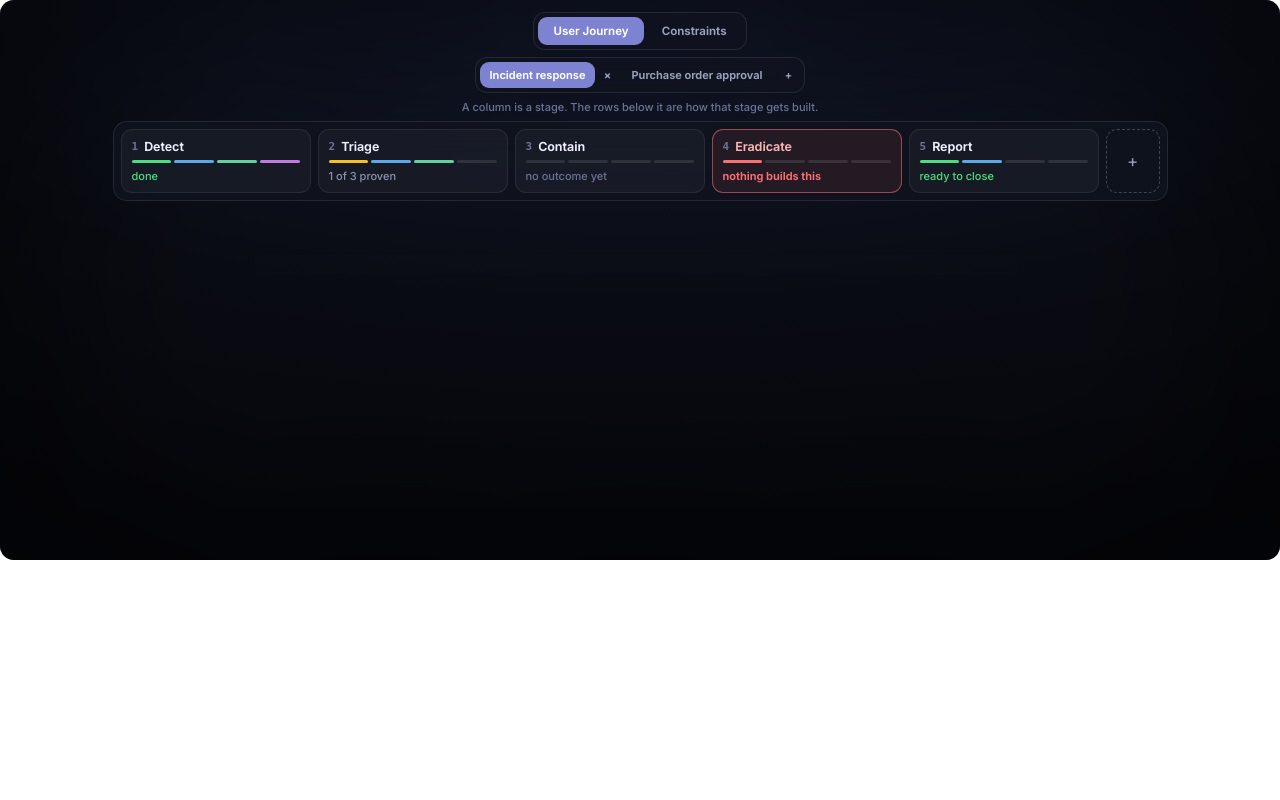
W · a stage and its outcomes › a strip box selects its stage and settles the camera; the pane offers Add an outcome, and filing it writes the outcome on that stage
This screenshot has width=1280, height=800.
Click the button with test id "space-stage" showing "3 Contain no outcome yet" at (610, 161), box [514,129,704,193]
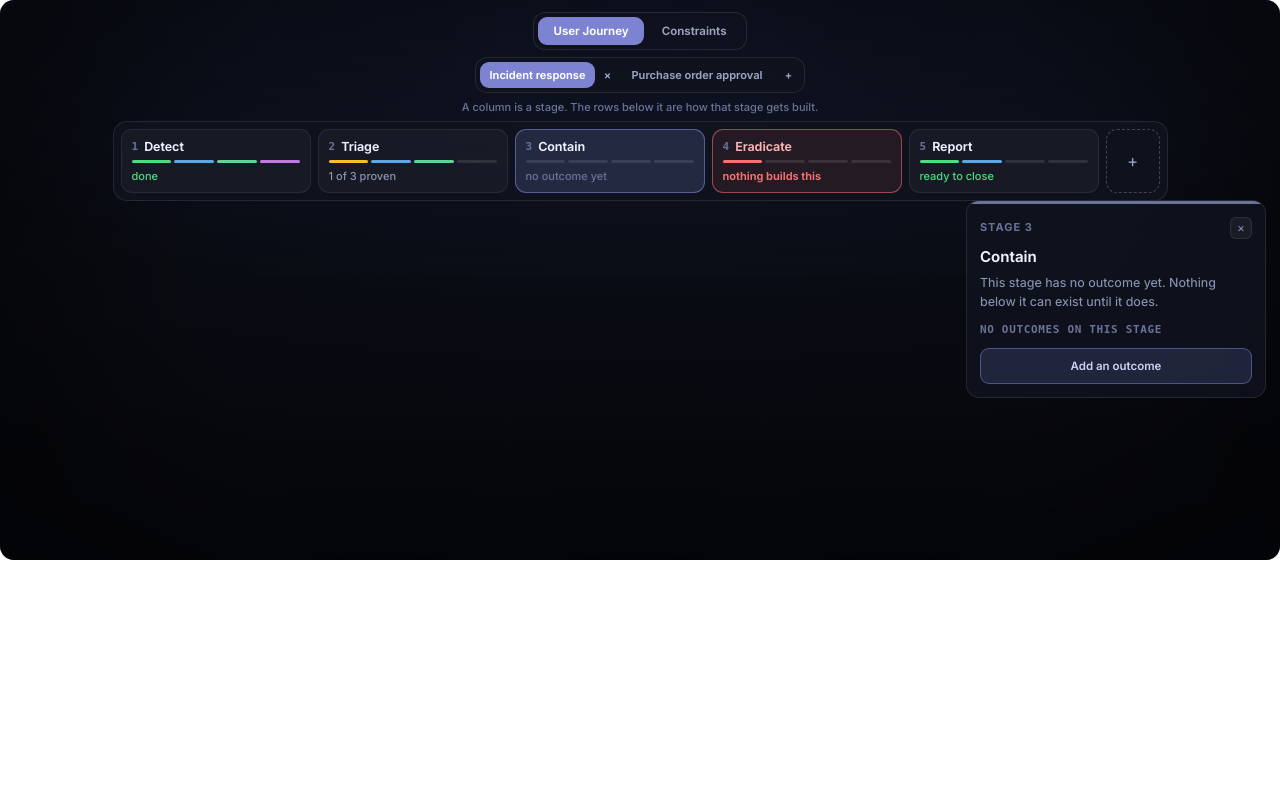
Expected: the element with test id "space-inspector" shows "Stage 3", [980,220,1033,234]
Expected: the element with test id "space-inspector" shows "This stage has no outcome yet. Nothing below it can exist until it does.", [980,274,1216,309]
Click the button with test id "space-new-outcome" at (1116, 366), box [980,348,1252,384]
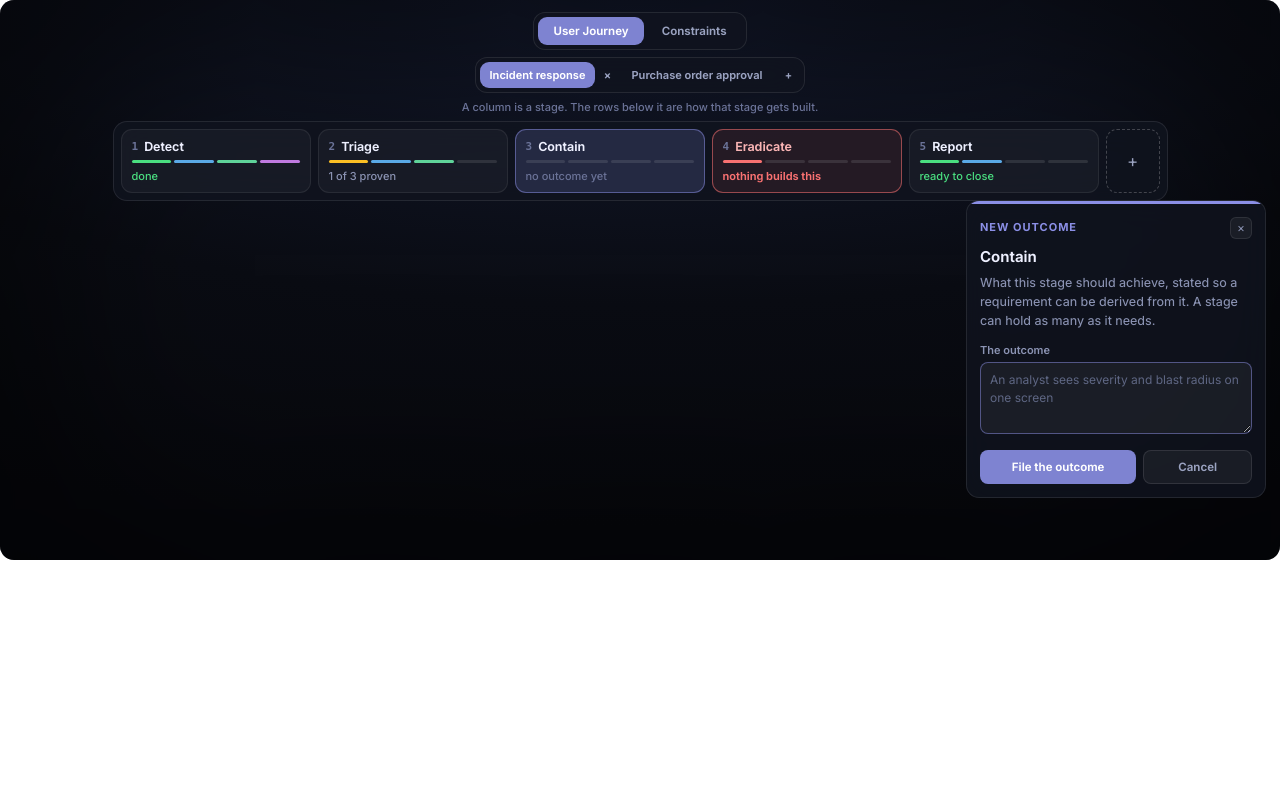
Expected: the element with test id "space-inspector" has attribute data-kind="form:outcome", [966,200,1266,498]
Type "A compromised session is revoked everywhere in one action" into the text box with test id "space-outcome-text" at (1116, 398), box [980,362,1252,434]
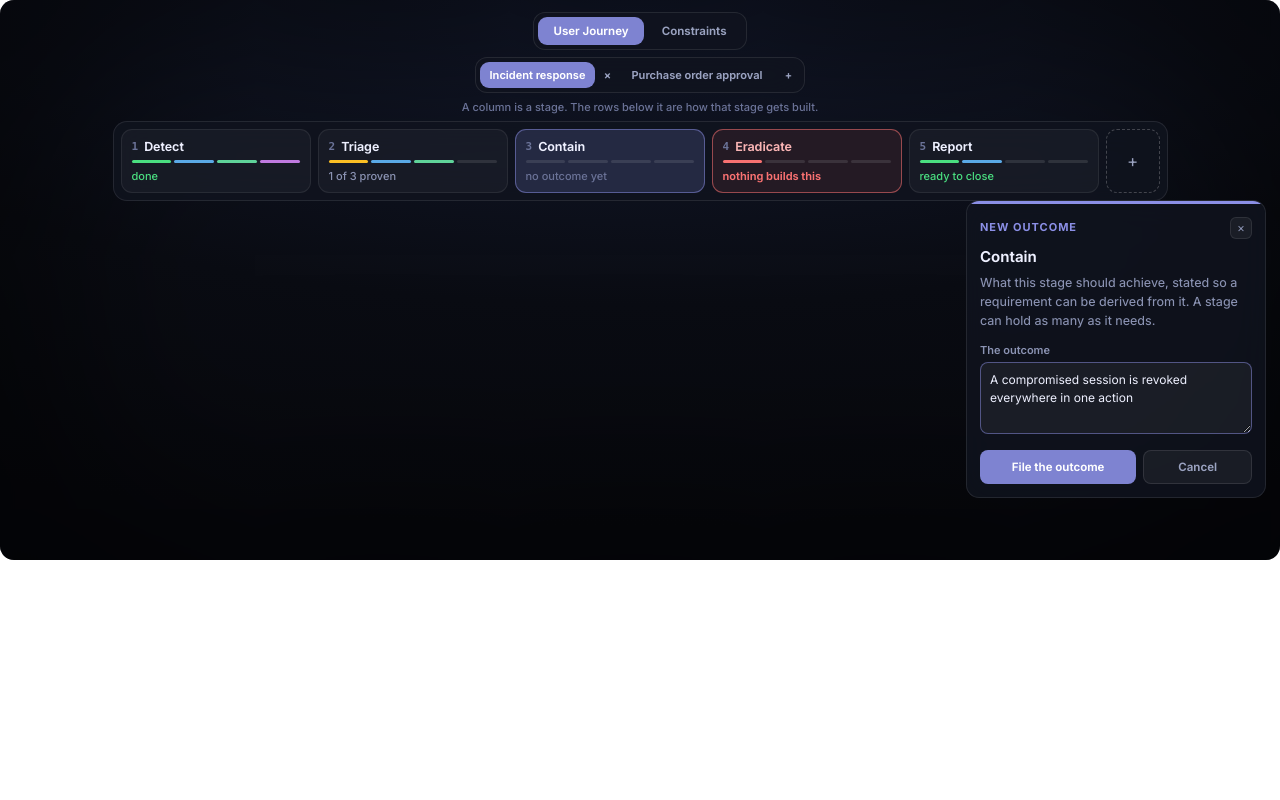
Click the button with test id "space-form-save" at (1058, 467), box [980,450,1136,484]
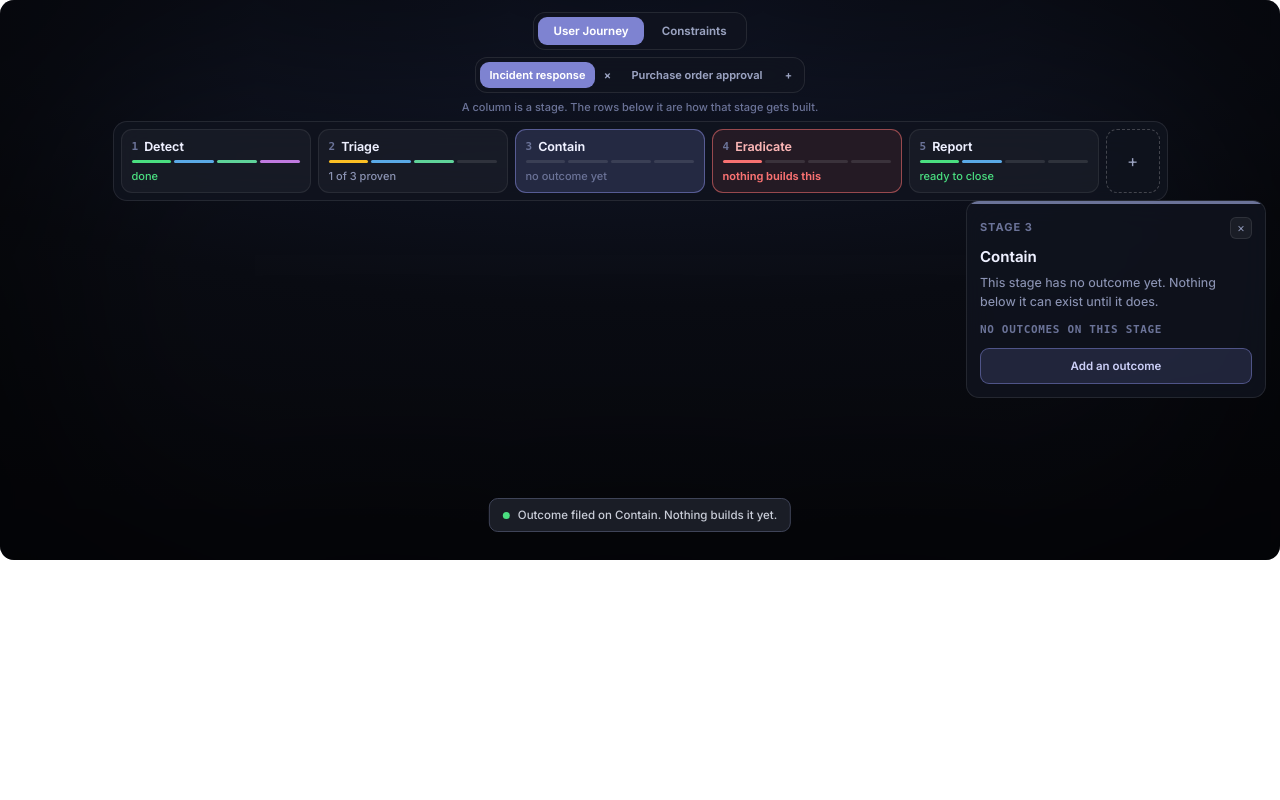
Expected: the message with test id "space-toast" reads "Outcome filed on Contain. Nothing builds it yet.", [518,508,777,522]
